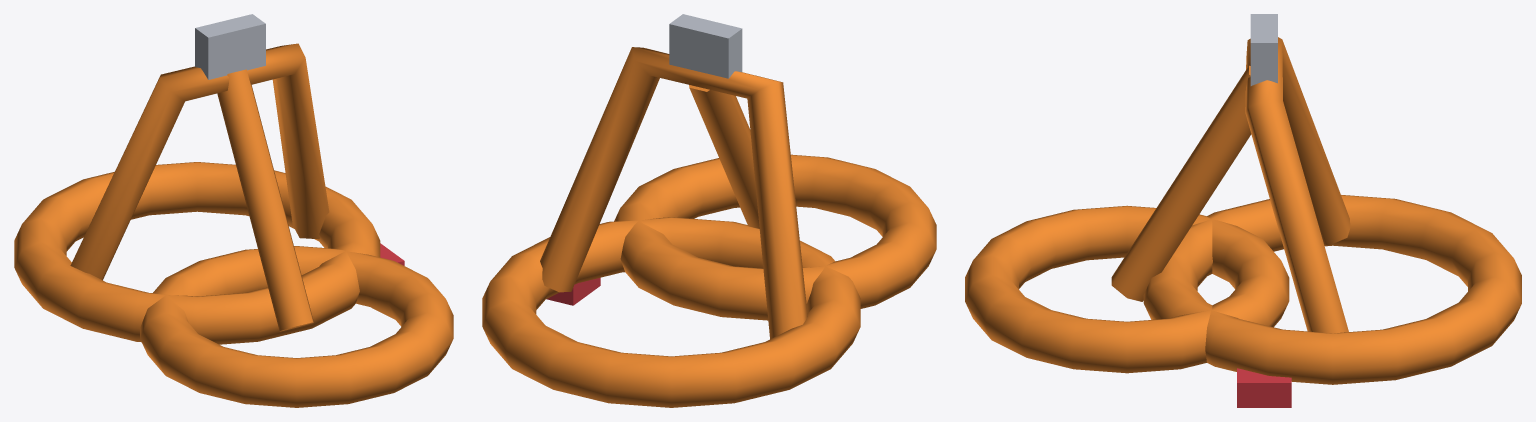
Rendered from safety_harness.glb.
The picture shows the model from 3 angles, left to right: view 1: azimuth 30°, elevation 25°; view 2: azimuth 150°, elevation 25°; view 3: azimuth 270°, elevation 25°; orthographic projection. The views are drawn at different scales.
Visible parts, largest first — view 1: root; view 2: root; view 3: root.
Boxes of the visible parts, left/top/right/bottom form: root: left=14, top=14, right=453, bottom=407; root: left=482, top=14, right=936, bottom=407; root: left=965, top=14, right=1521, bottom=407.
Bounding box in the file's own units: 0.28 × 0.24 × 0.4061.
